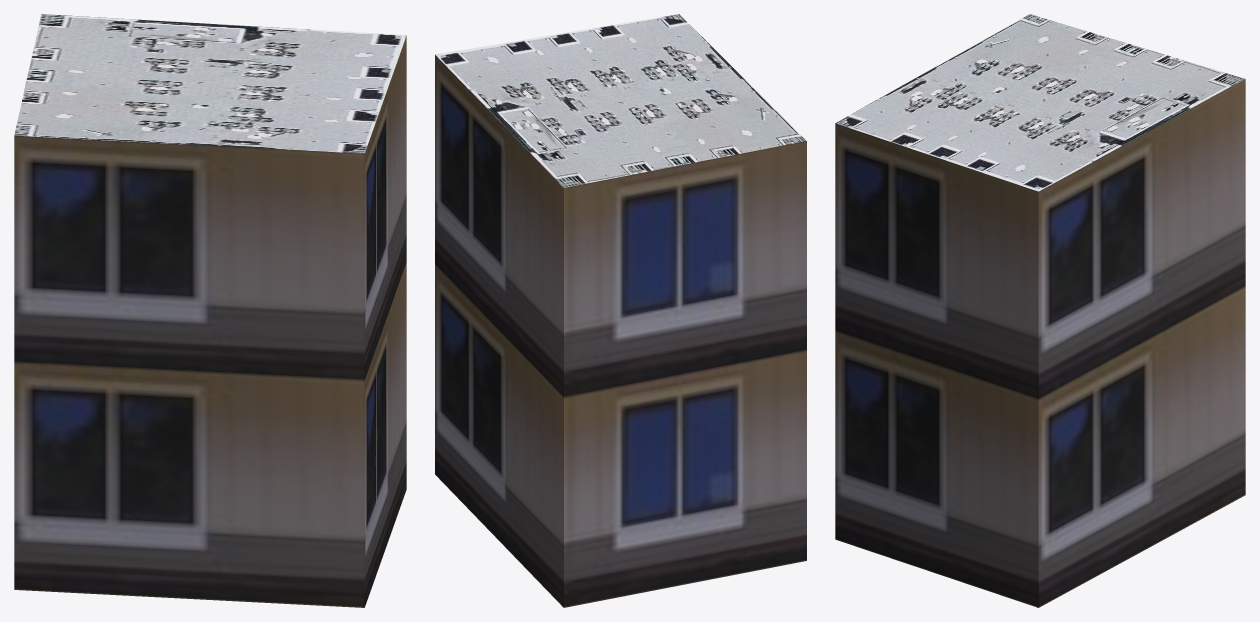
File: ResTex__3971.fbx
3 renders of one model, left to right at view 1: azimuth 30°, elevation 25°; view 2: azimuth 150°, elevation 25°; view 3: azimuth 270°, elevation 25°, orthographic. The views are drawn at different scales.
Visible parts, largest first — view 1: CityEngineMaterial_5_m, CityEngineMaterial_4_m; view 2: CityEngineMaterial_5_m, CityEngineMaterial_4_m; view 3: CityEngineMaterial_5_m, CityEngineMaterial_4_m.
Part boxes in pixels (x1,y1,x2,y2): CityEngineMaterial_5_m: (14,36,406,607); CityEngineMaterial_4_m: (14,14,406,153); CityEngineMaterial_5_m: (435,55,806,607); CityEngineMaterial_4_m: (435,14,806,187); CityEngineMaterial_5_m: (835,79,1245,607); CityEngineMaterial_4_m: (835,14,1245,191).
Size of the model in its own units: 5.49 by 6 by 5.36.
Materials: 2 (2 with a texture image).
